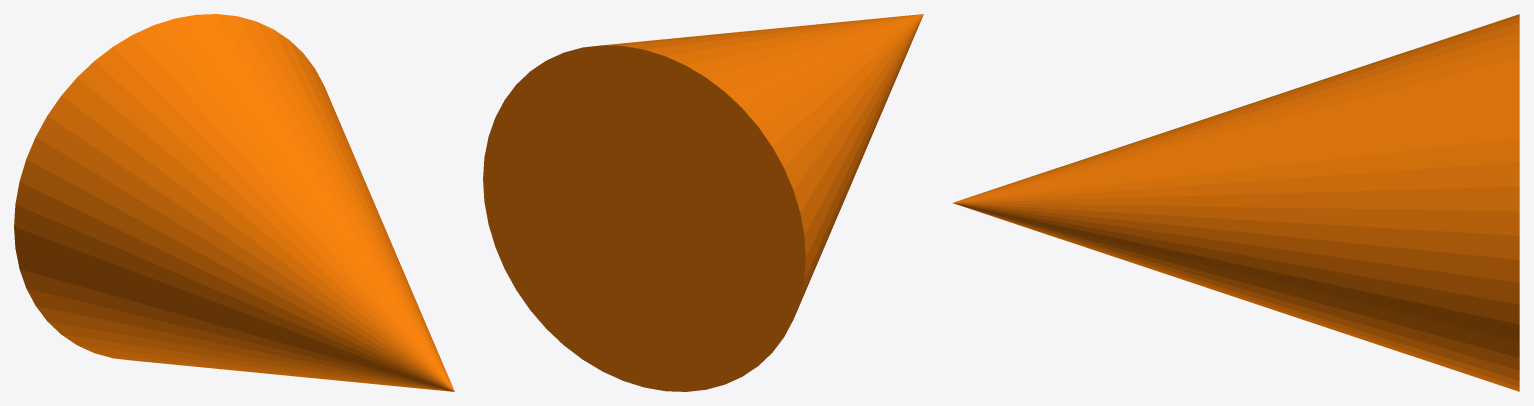
The model's file is cone_orange.obj.
The picture shows the model from 3 angles, left to right: view 1: azimuth 30°, elevation 25°; view 2: azimuth 150°, elevation 25°; view 3: azimuth 270°, elevation 25°; orthographic projection.
Parts seen in each view (by area): view 1: obj_0; view 2: obj_0; view 3: obj_0.
Boxes of the visible parts, x1,y1,x2,y2 form: obj_0: [14, 14, 454, 391]; obj_0: [483, 14, 923, 391]; obj_0: [953, 14, 1519, 391].
Size of the model in its own units: 20 by 20 by 30.
